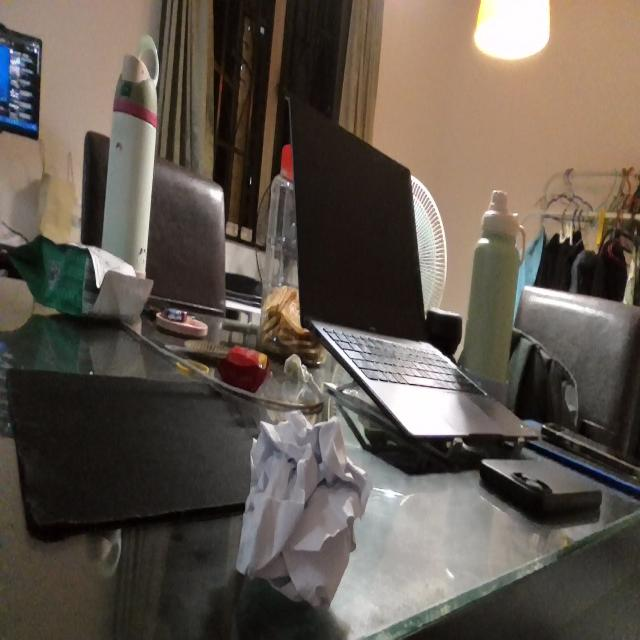crumpled_paper: (232, 409, 376, 619)
